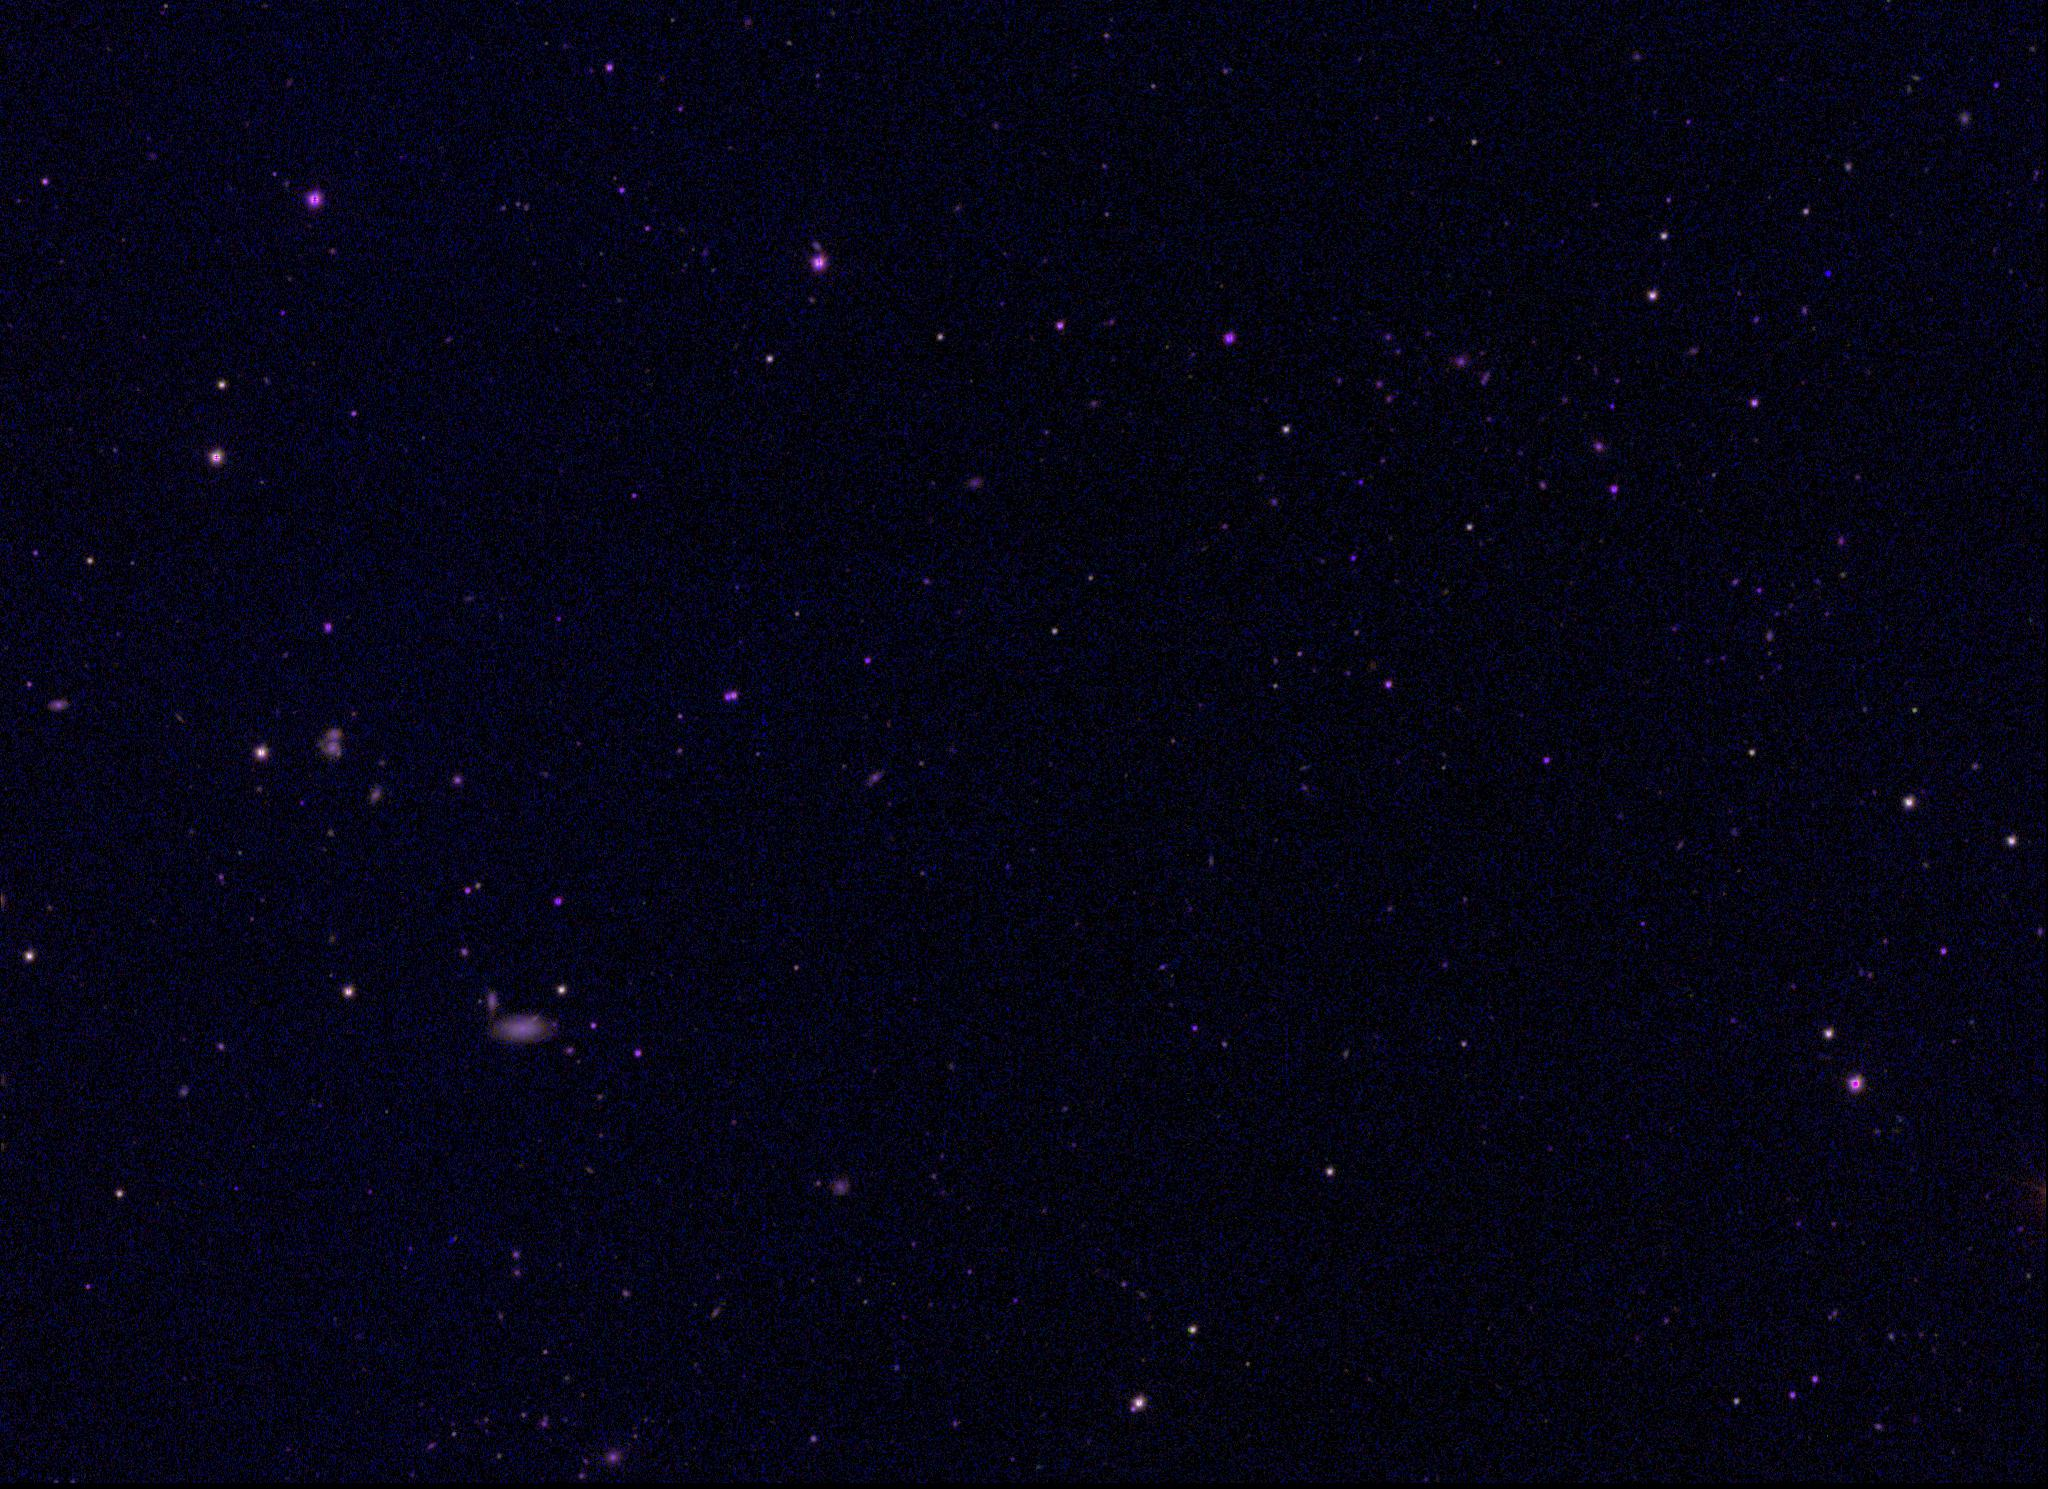L: (1822, 267, 1837, 282)
